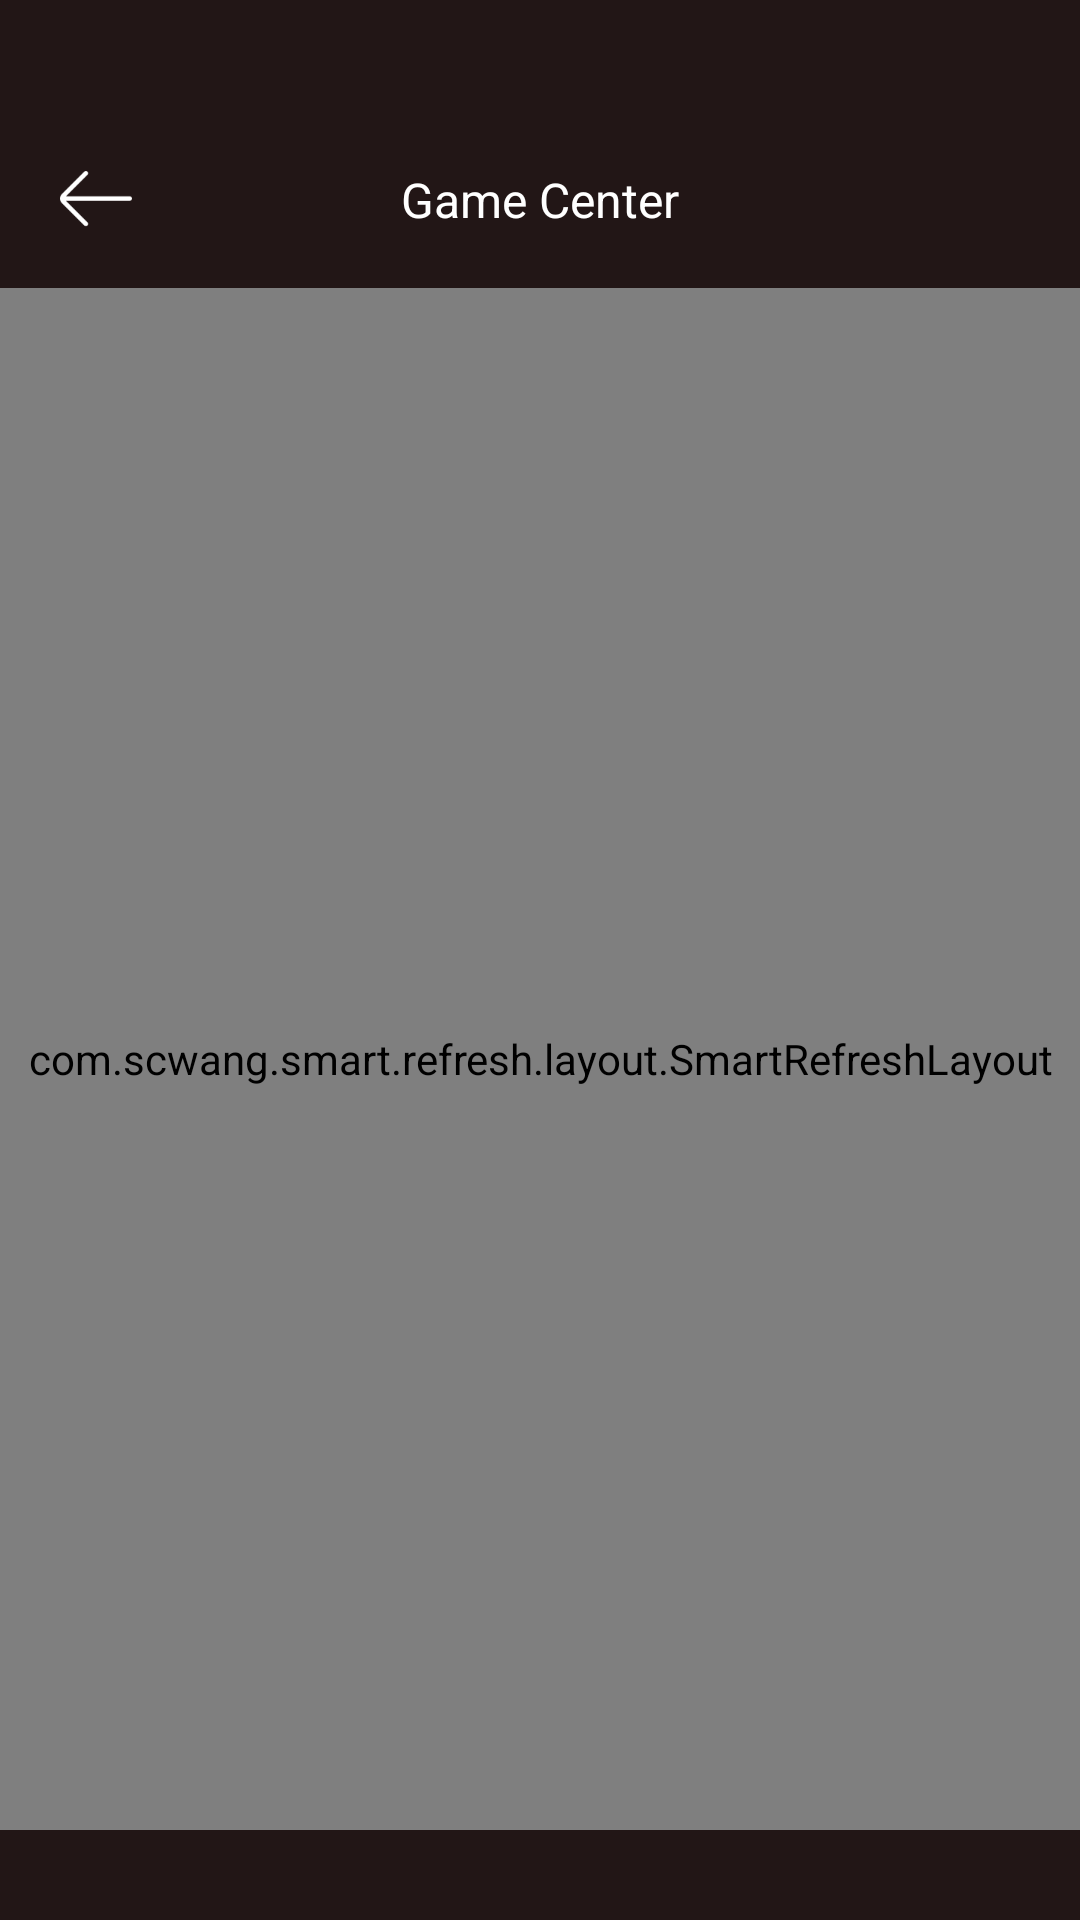

Where icons sit on this 1080x1920 app screen, as (x1, y1, x2, y2):
back: (60, 171, 132, 226)
